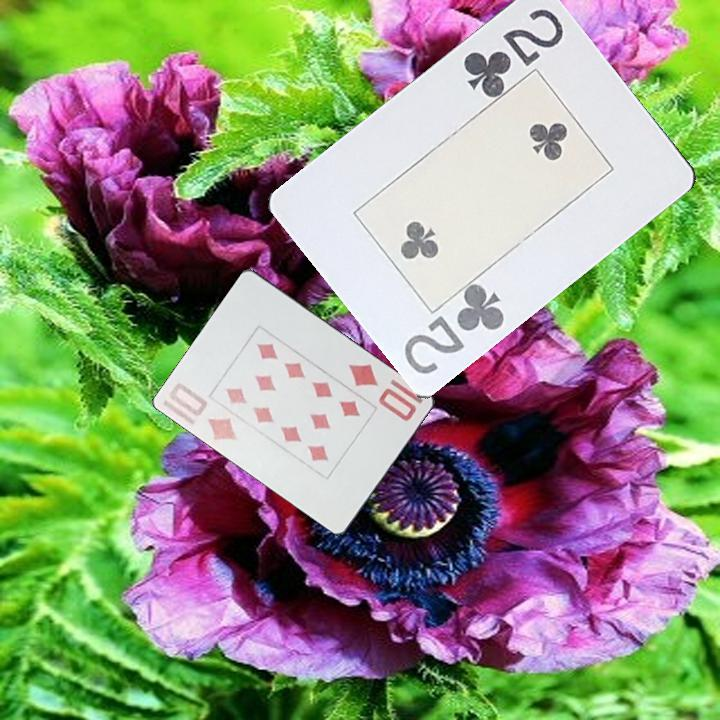2c: (400, 281, 508, 378), (459, 5, 567, 100)
Td: (166, 379, 242, 444), (345, 359, 420, 424)
